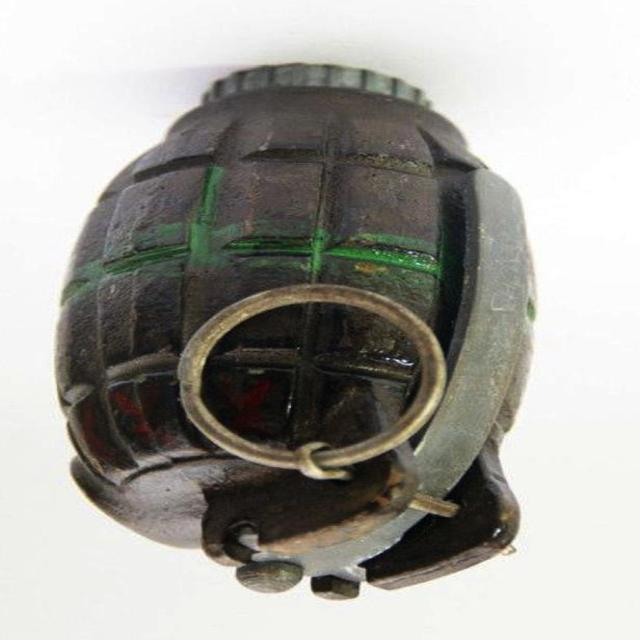grenade: (58, 65, 540, 602)
